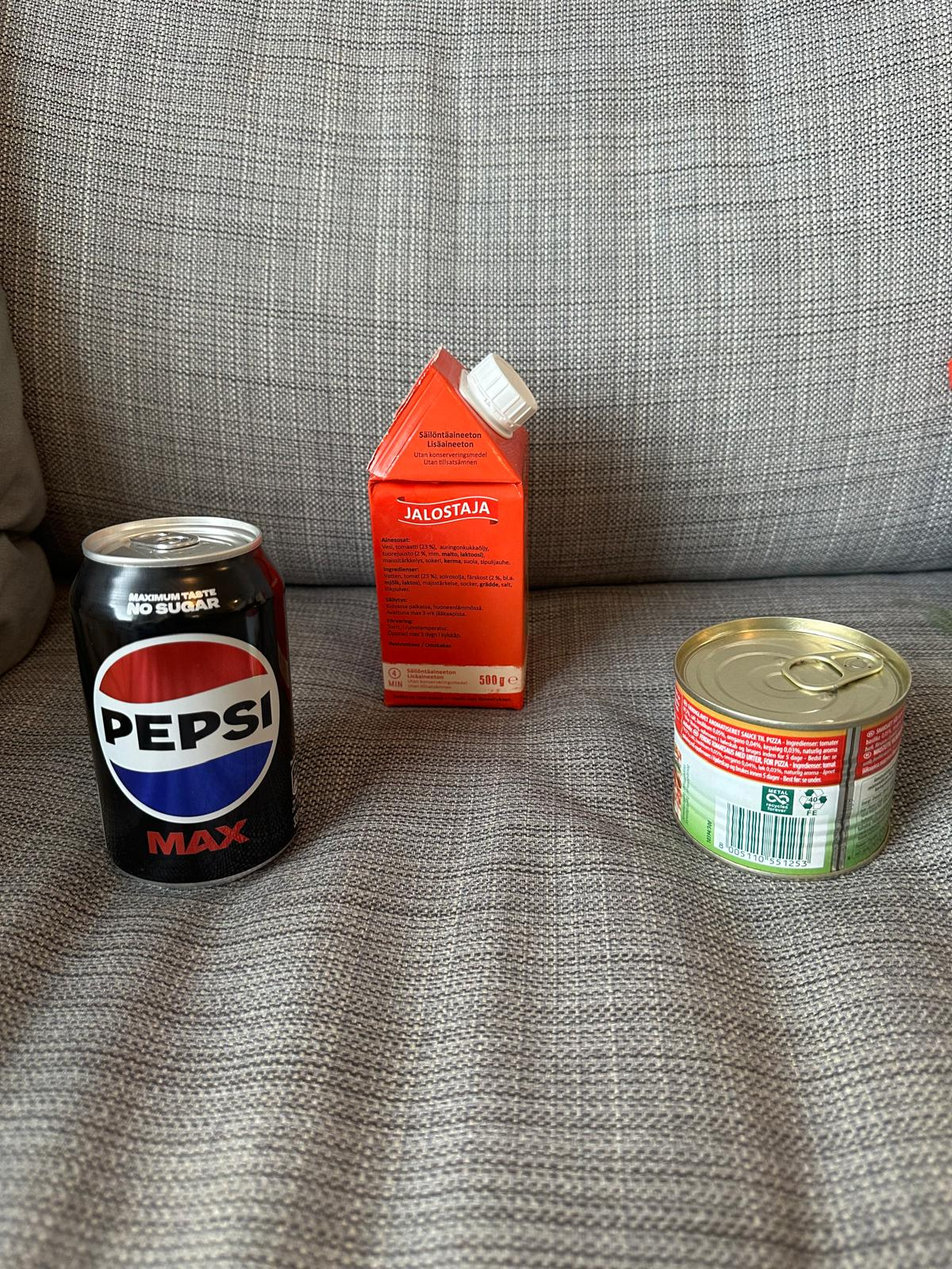Dryckeskartong: (365, 345, 540, 710)
Konservburk: (672, 616, 914, 879)
Pantburk: (68, 516, 300, 892)
